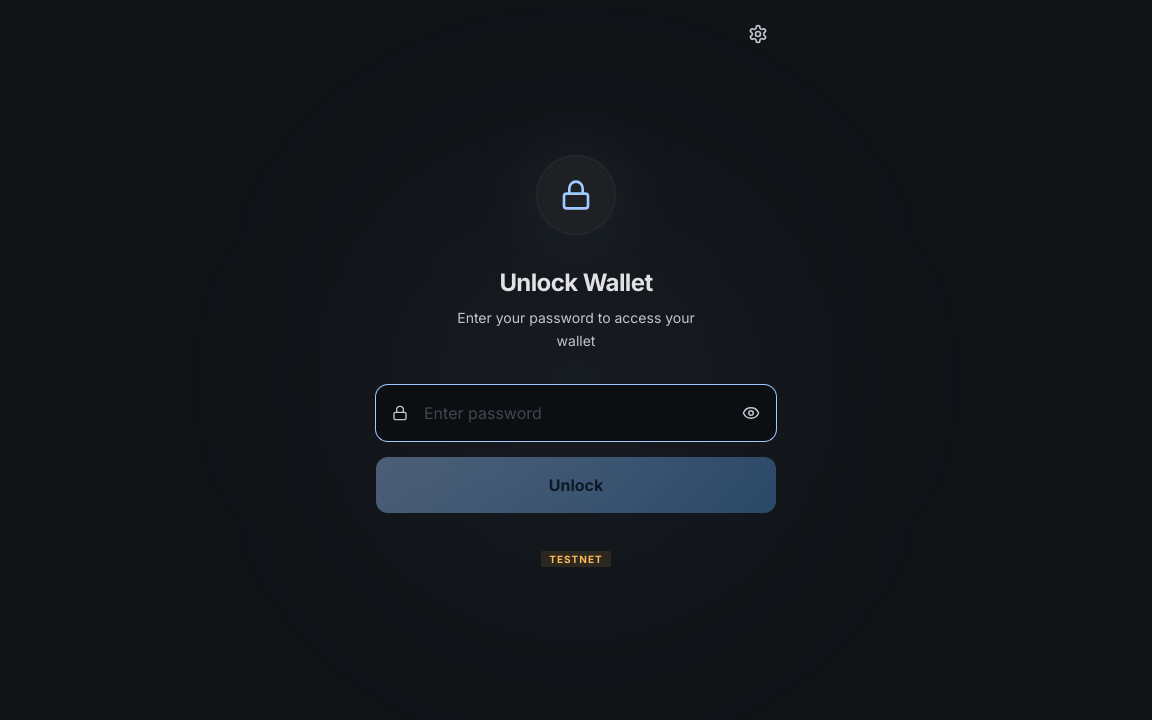
Test: UnlockModal › opens dropdown and shows Delete Wallet option on gear click
Step 1. Click the button named "wallet options" → click(758, 34), box [740,16,776,52]
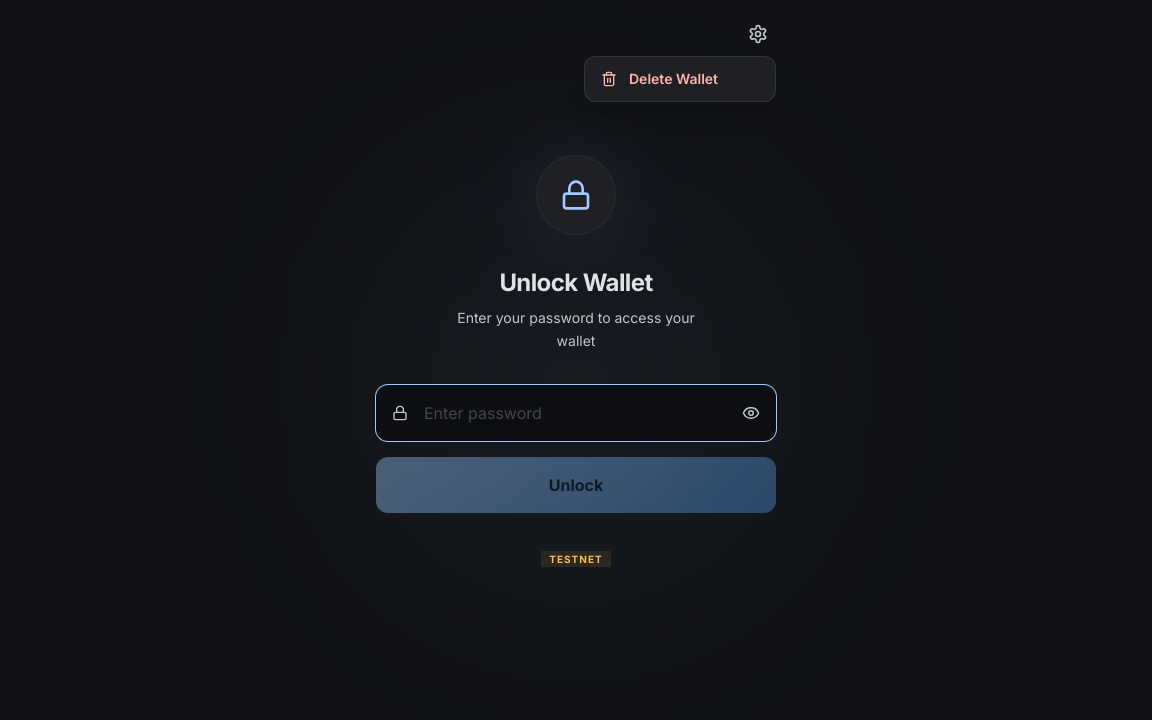
Now the button "Delete Wallet" is shown, box [585,57,775,101]
